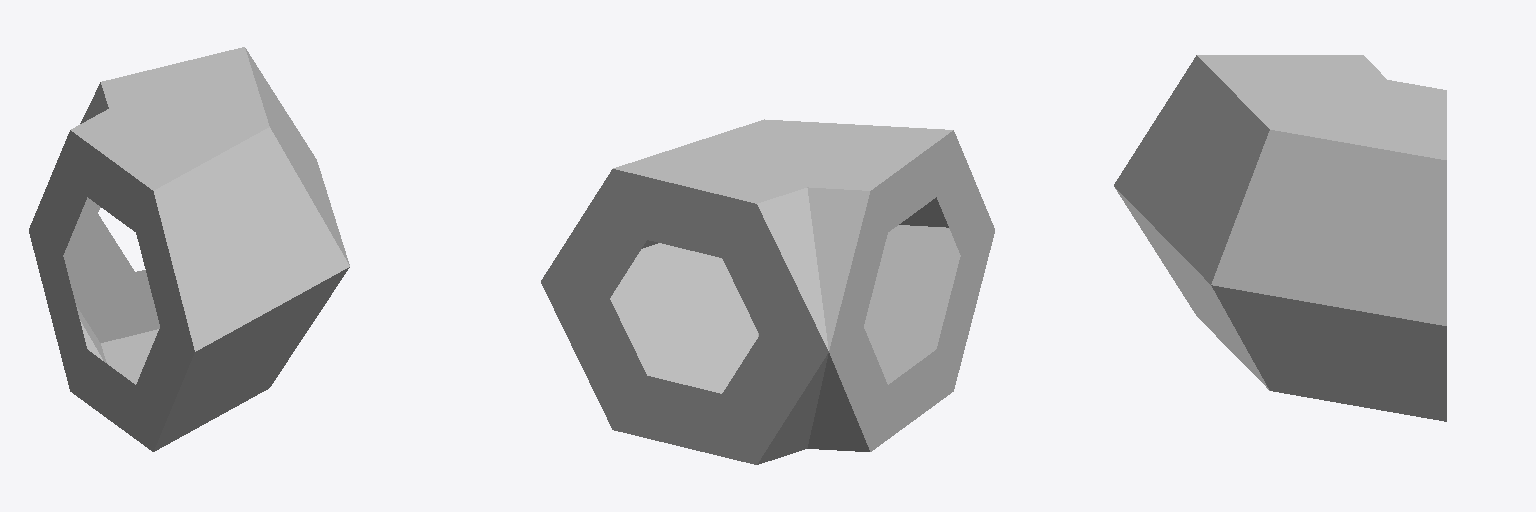
File: pipe_turn.obj
3 views of the same model, side by side, from view 1: azimuth 30°, elevation 25°; view 2: azimuth 150°, elevation 25°; view 3: azimuth 270°, elevation 25° (orthographic).
Visible parts, largest first — view 1: Cylinder.007_Cylinder.006; view 2: Cylinder.007_Cylinder.006; view 3: Cylinder.007_Cylinder.006.
Boxes of the visible parts, x1=… form: Cylinder.007_Cylinder.006: x1=29, y1=47, x2=349, y2=451; Cylinder.007_Cylinder.006: x1=541, y1=119, x2=994, y2=464; Cylinder.007_Cylinder.006: x1=1114, y1=55, x2=1446, y2=421.
Bounding box in the file's own units: 0.3423 × 0.2964 × 0.3423.